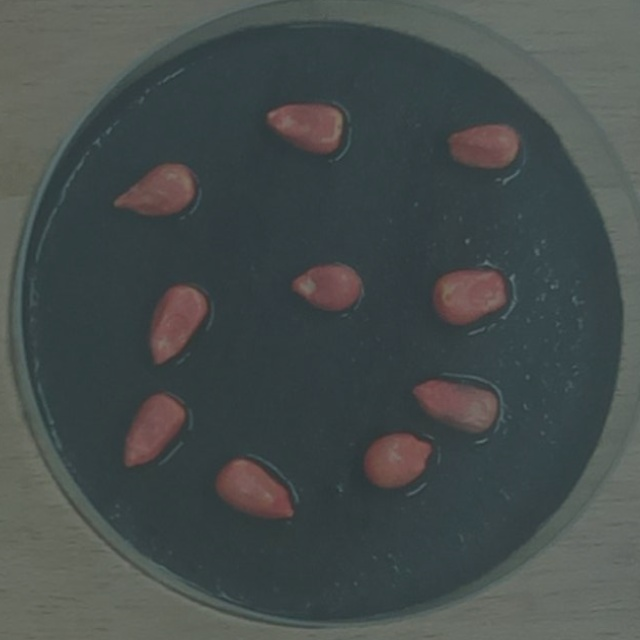Zea mays: (207, 449, 300, 525), (115, 386, 190, 477), (140, 277, 212, 371), (106, 157, 204, 225), (404, 370, 500, 439), (423, 262, 510, 335), (256, 97, 349, 160), (357, 427, 437, 496), (440, 117, 525, 177), (283, 256, 365, 317)
